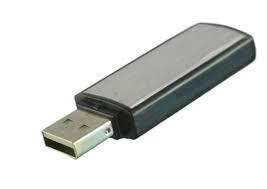Flash-drive: (38, 7, 265, 169)
